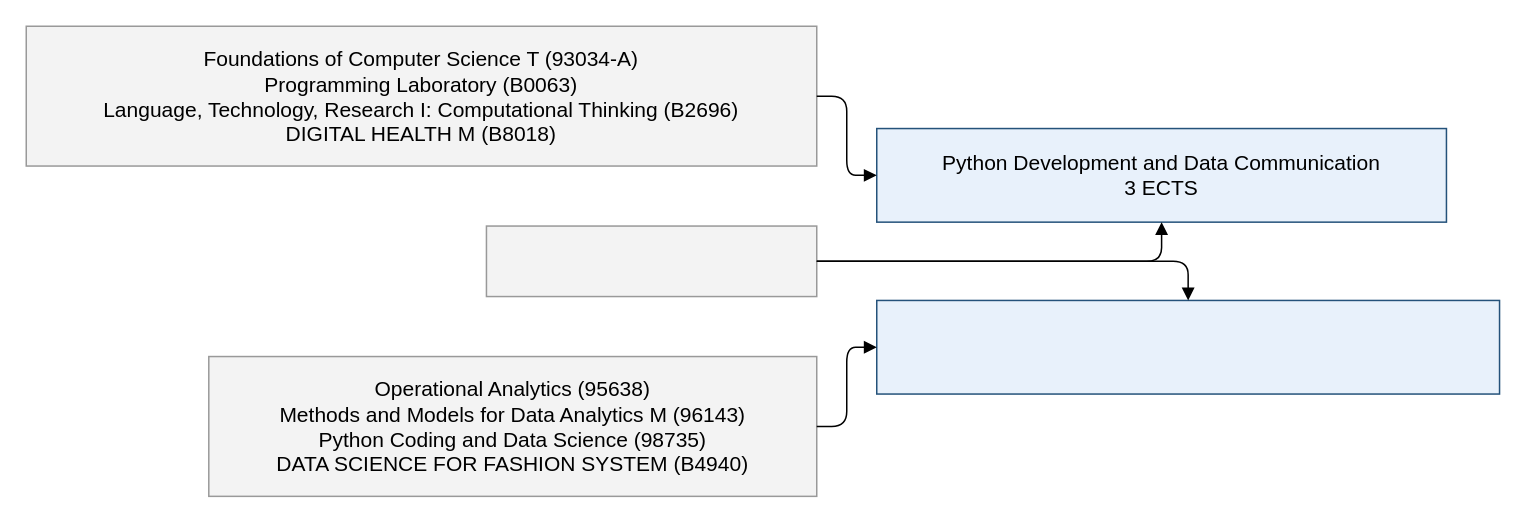
Some shapes in this 1527 by 524 pixel diagram are drawn without their labels. The shapes that lost their labels are listed below. From the top down, each one's box as (x1, y1, x2, y2) in pixels, then its label:
(485, 225, 817, 297): Digital Culture (93379)
(875, 299, 1500, 394): Machine Learning and Applied Analytics Workflows 3 ECTS
